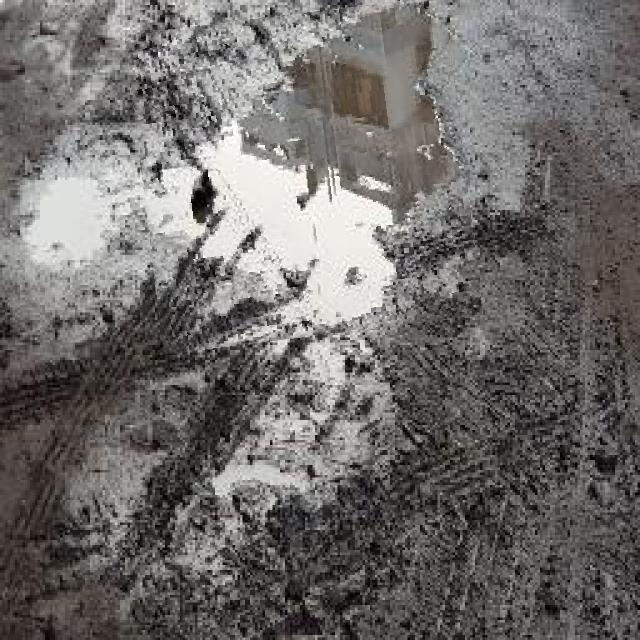puddle: (136, 6, 476, 346)
